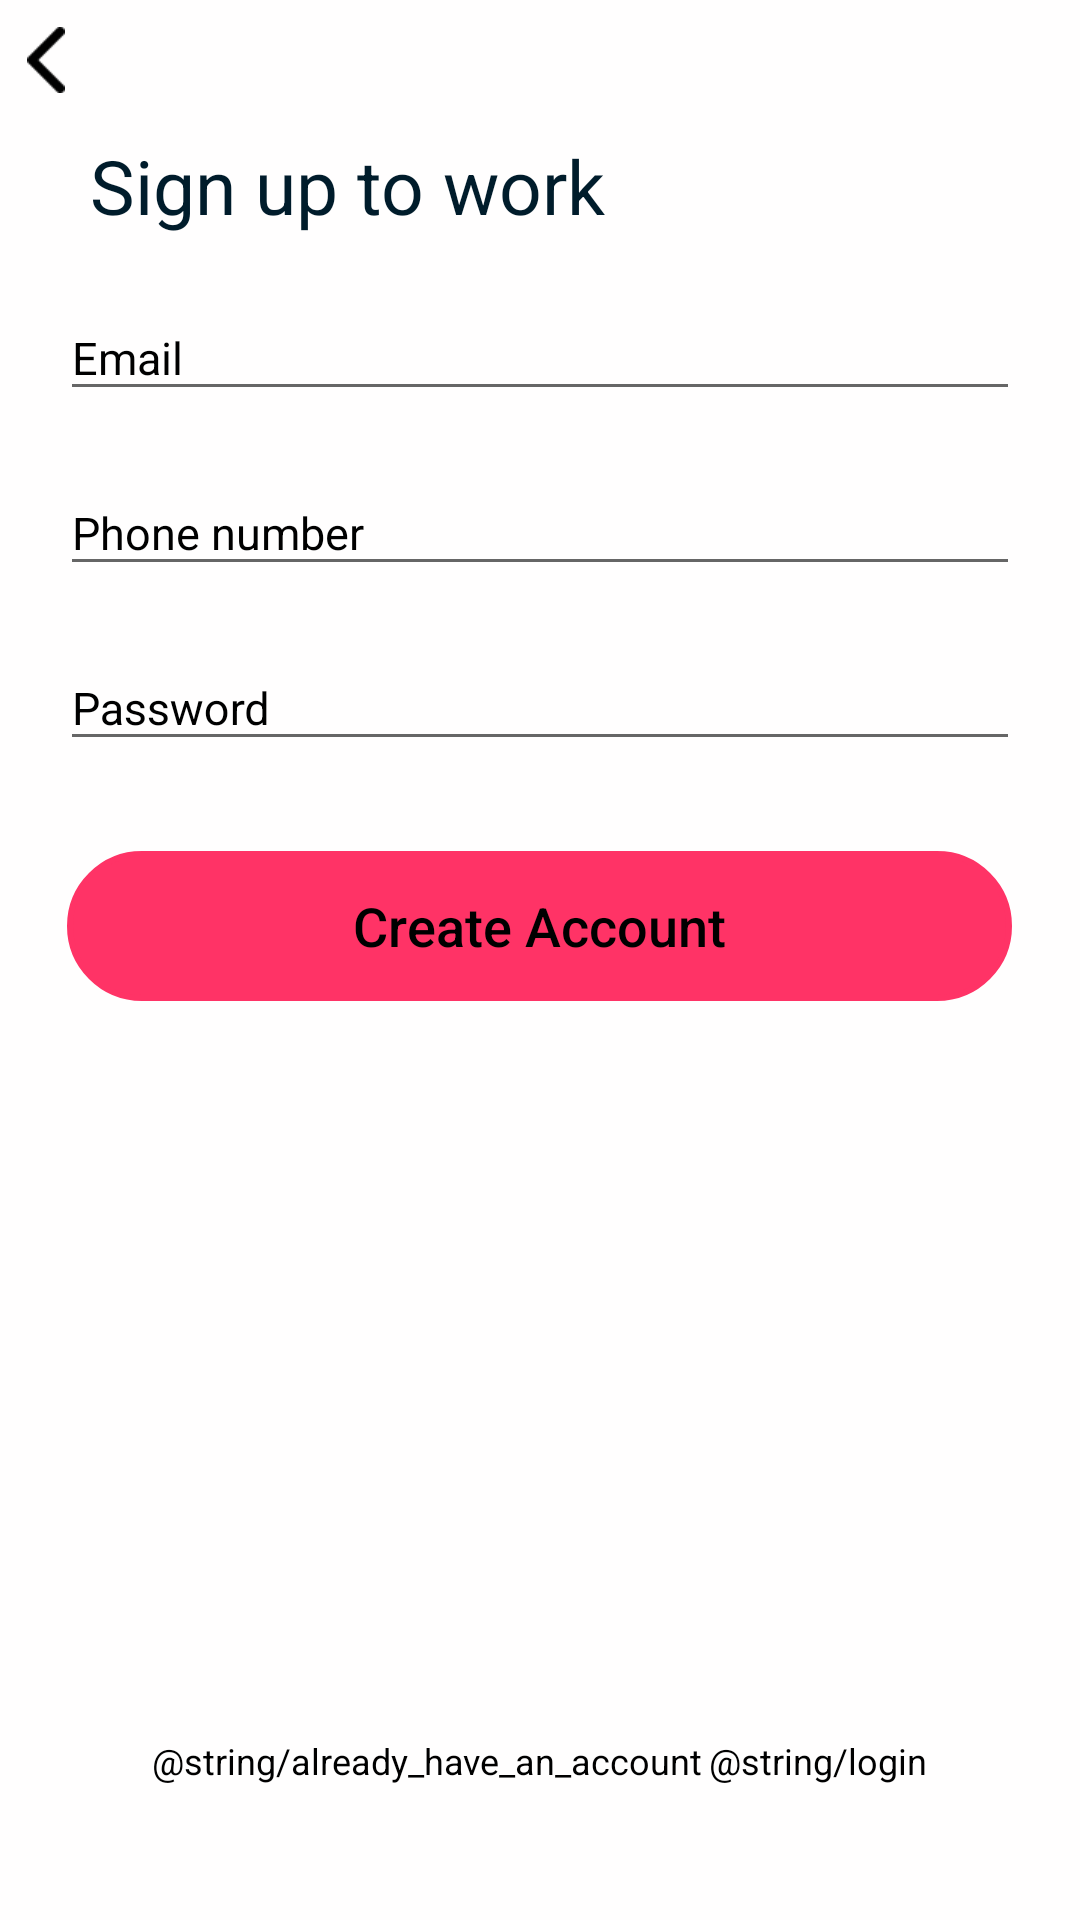

Where icons sit on this 1080px x 1920px app screen, as bbox(x1, y1, x2, y2):
back: bbox(27, 27, 65, 93)
